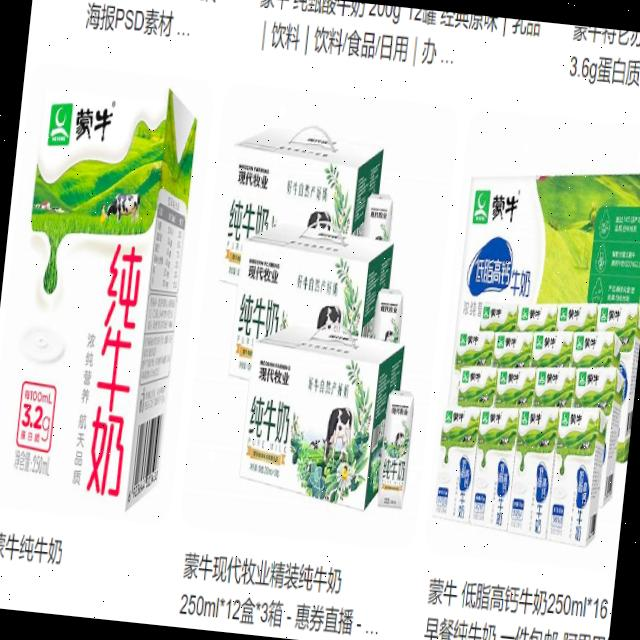mengniu_milk: (30, 89, 169, 243), (554, 408, 600, 456), (574, 364, 617, 413), (516, 407, 558, 452), (534, 364, 576, 408), (439, 410, 481, 450), (477, 409, 517, 449), (457, 367, 496, 407), (452, 332, 494, 369), (492, 335, 534, 372), (530, 334, 572, 368), (571, 334, 615, 366), (479, 301, 520, 335), (496, 372, 534, 408), (557, 304, 599, 334), (598, 308, 638, 338), (518, 305, 558, 333)
